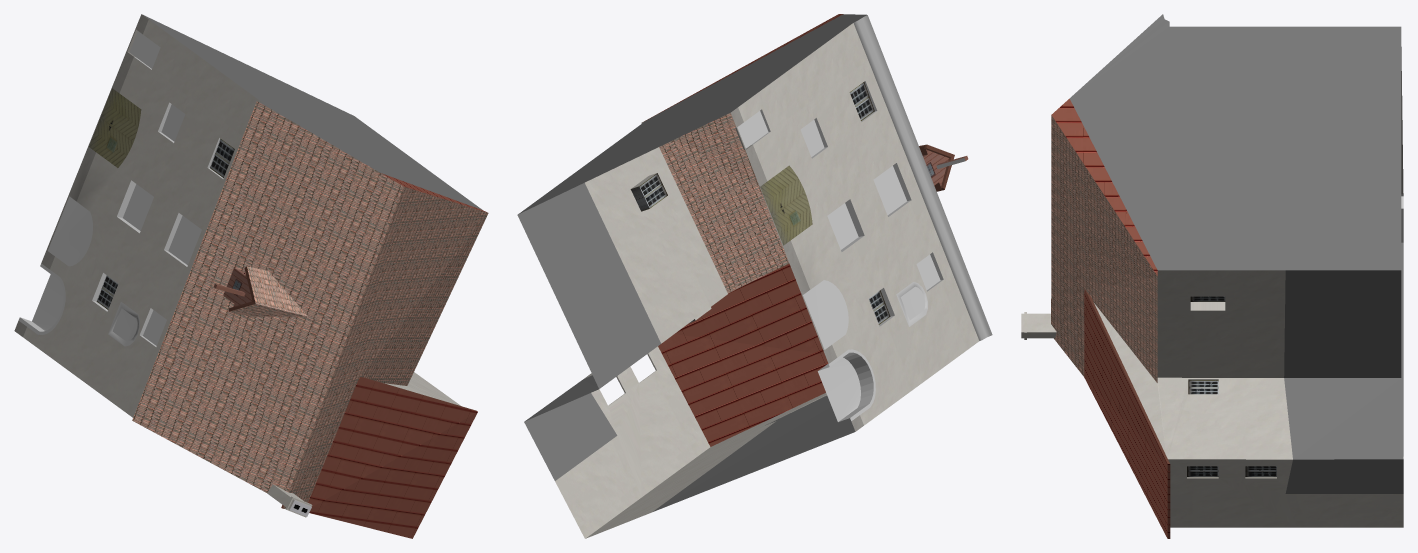
File: Lai-30.obj
3 renders of one model, left to right at view 1: azimuth 30°, elevation 25°; view 2: azimuth 150°, elevation 25°; view 3: azimuth 270°, elevation 25°, orthographic. The views are drawn at different scales.
Visible parts, largest first — view 1: lai30; view 2: lai30; view 3: lai30.
Boxes of the visible parts, x1,y1,x2,y2 form: lai30: (14,14,488,538); lai30: (517,14,992,538); lai30: (1021,14,1403,538).
Size of the model in its own units: 18.19 by 23.52 by 18.02.
